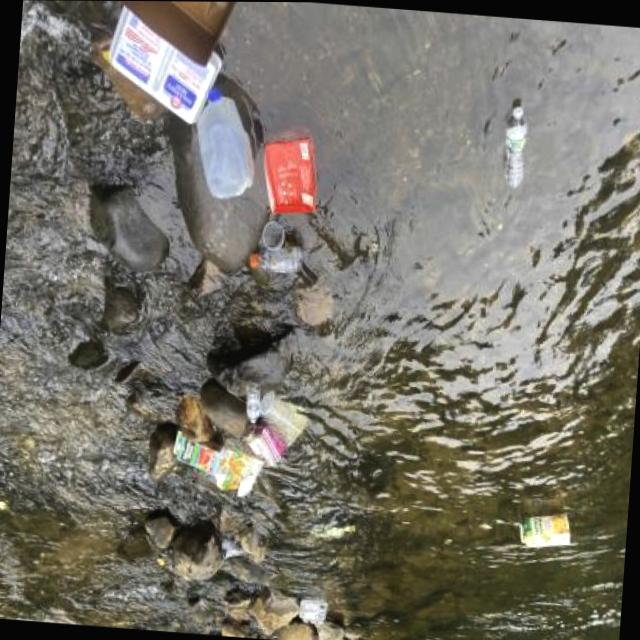Cardboard: (92, 1, 249, 73), (168, 426, 266, 499), (256, 119, 324, 219), (511, 500, 574, 552)
Plastic: (100, 14, 220, 119), (188, 83, 262, 206), (236, 380, 307, 464), (493, 91, 536, 200), (244, 219, 308, 280), (294, 591, 328, 625)
